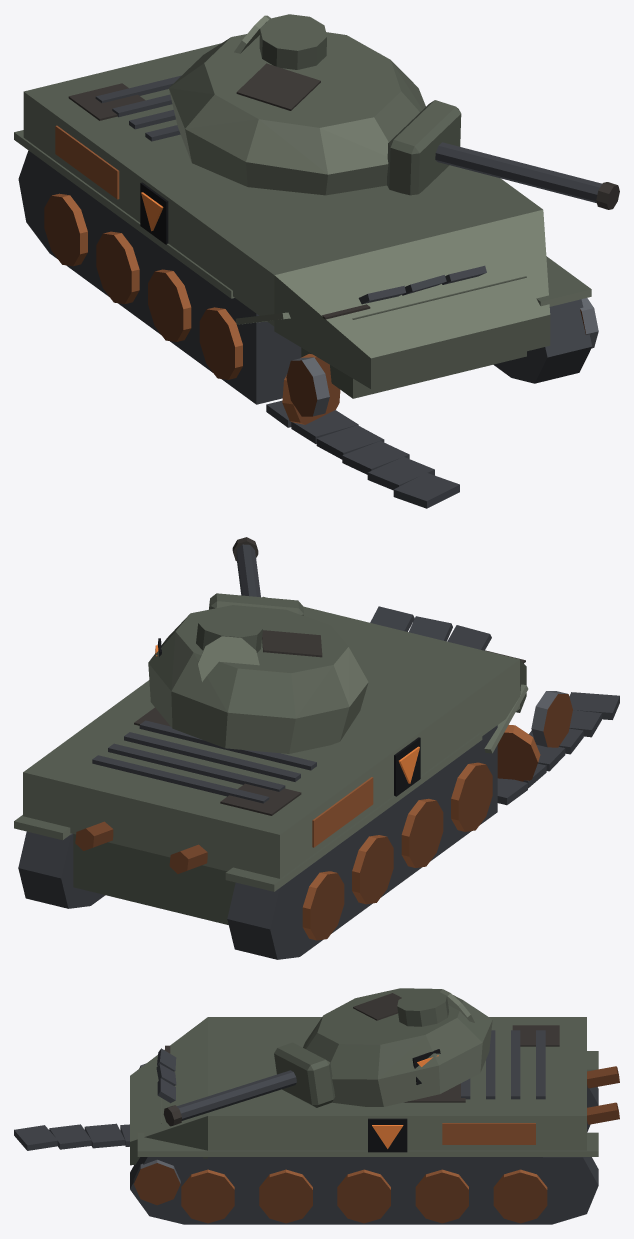
The model's file is tank_wreck.glb.
3 views of the same model, one above another, from view 1: azimuth 30°, elevation 25°; view 2: azimuth 150°, elevation 25°; view 3: azimuth 270°, elevation 25° (orthographic). The views are drawn at different scales.
Visible parts, largest first — view 1: LOD0; view 2: LOD0; view 3: LOD0.
Part boxes in pixels (x1,y1,x2,y2): LOD0: (14, 14, 619, 508); LOD0: (14, 537, 619, 959); LOD0: (14, 988, 619, 1224).
Size of what is drawn, in the model's own units: 3.68 by 2.7 by 7.76.
Materials: 1 (1 with a texture image).
